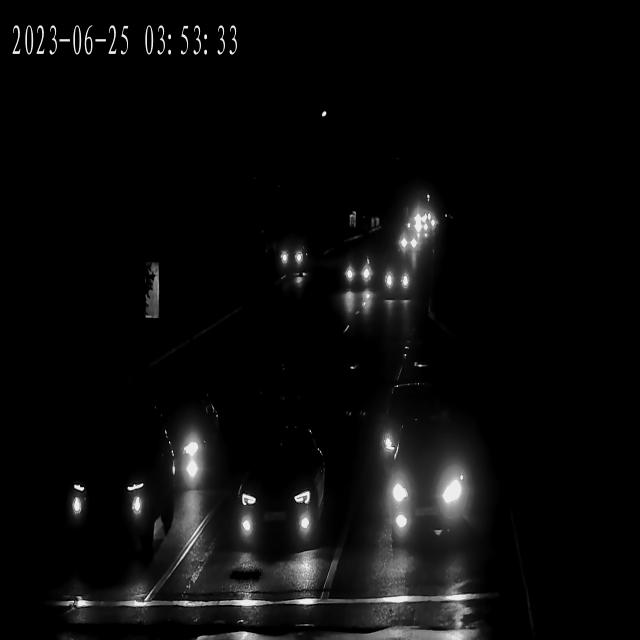Car: (54, 424, 170, 541), (231, 434, 326, 544), (139, 387, 224, 490), (380, 440, 470, 534), (368, 388, 435, 464), (339, 256, 374, 294), (381, 264, 412, 300), (276, 244, 308, 274), (398, 229, 420, 250), (395, 233, 418, 253), (414, 219, 431, 234), (404, 216, 422, 230), (412, 215, 430, 227)
